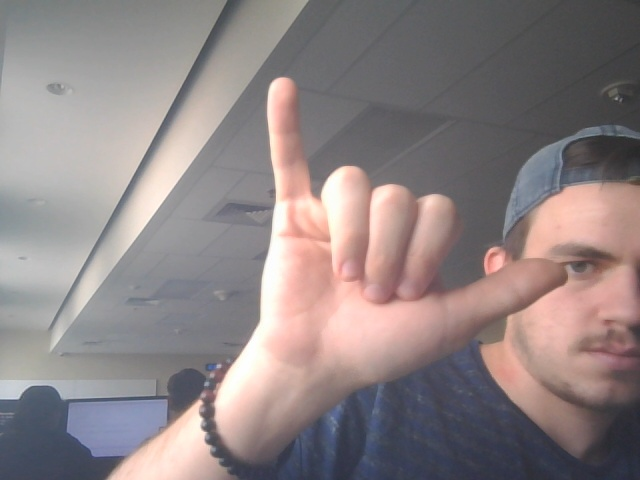birdsup: (251, 73, 573, 385)
